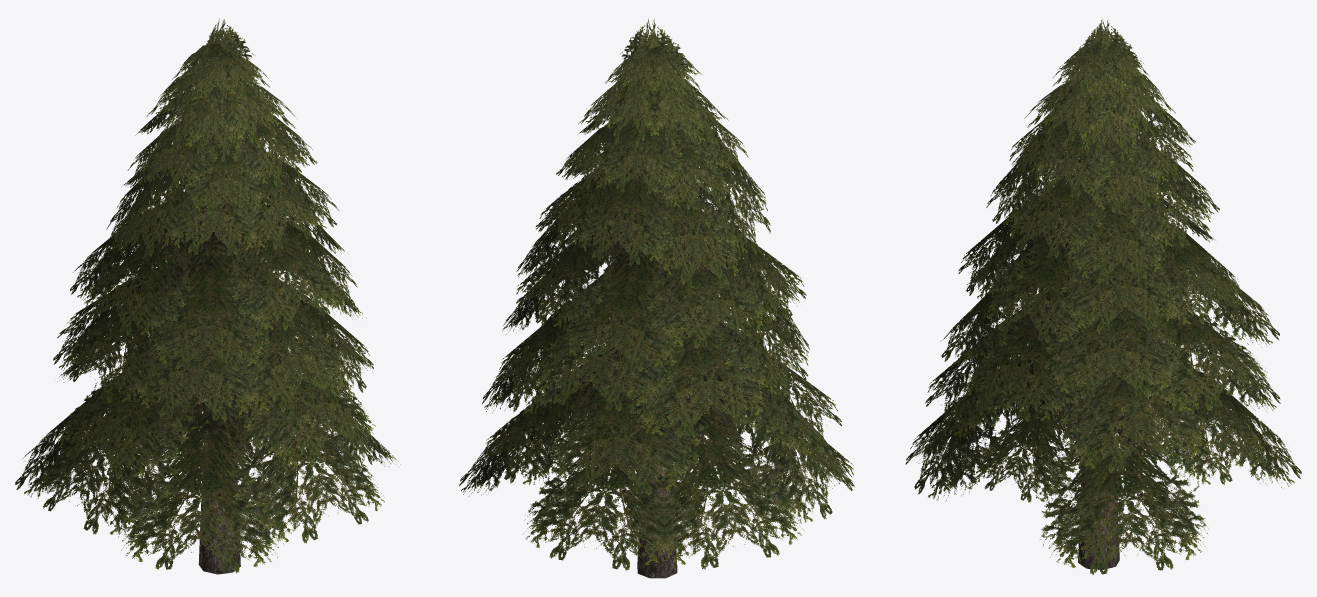
The model's file is firTree.dae.
3 views of the same model, side by side, from view 1: azimuth 30°, elevation 25°; view 2: azimuth 150°, elevation 25°; view 3: azimuth 270°, elevation 25° (orthographic).
Visible parts, largest first — view 1: firTree; view 2: firTree; view 3: firTree.
Boxes of the visible parts, box(x1,y1,x2,y2) form: firTree: box(15, 18, 400, 574); firTree: box(459, 18, 854, 578); firTree: box(905, 19, 1301, 574).
Size of the model in its own units: 0.853 by 1.26 by 0.8474.
1 material, 1 textured.
